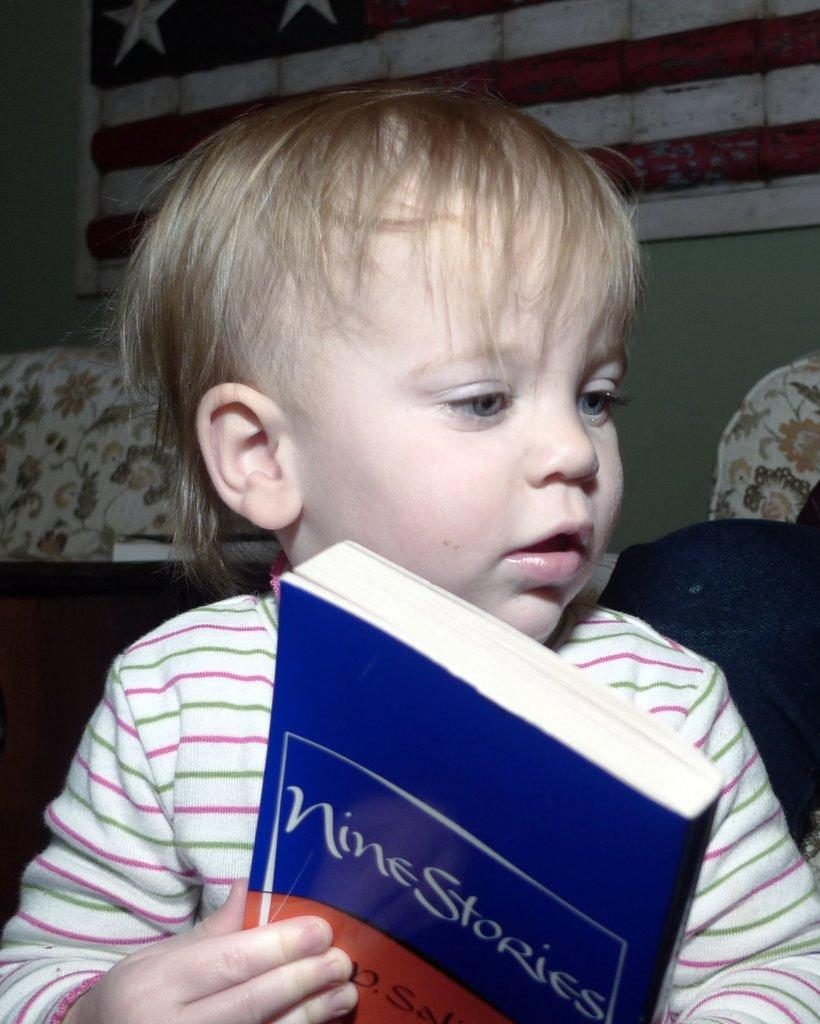Book: (198, 643, 719, 998)
